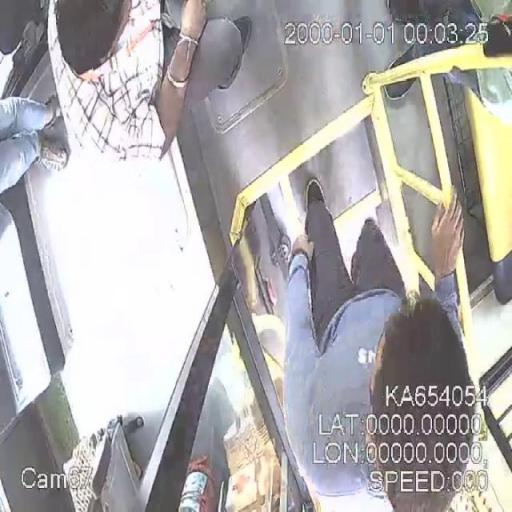persona: (282, 177, 480, 511), (46, 0, 252, 169), (0, 92, 71, 242)
